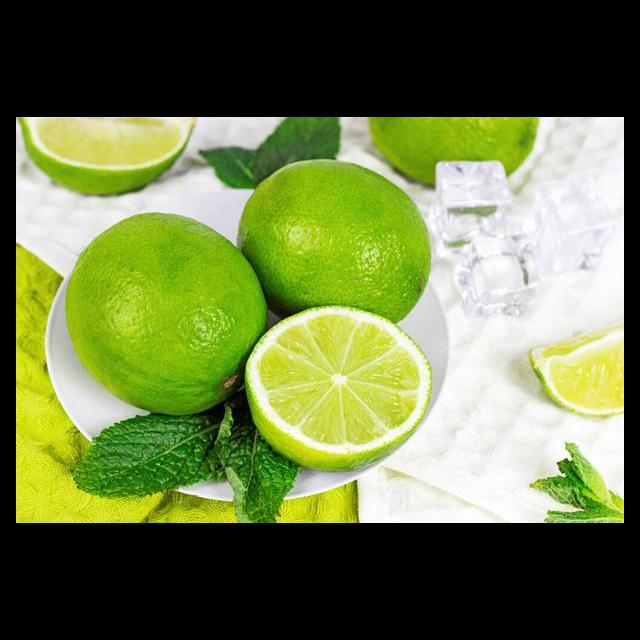lime: (61, 205, 275, 425), (229, 153, 438, 348), (358, 117, 546, 202)
